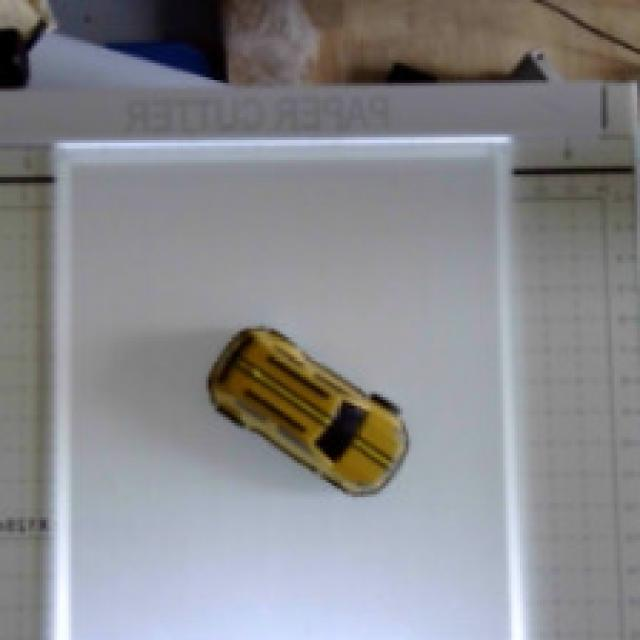Yellow Car: (159, 306, 494, 504)
